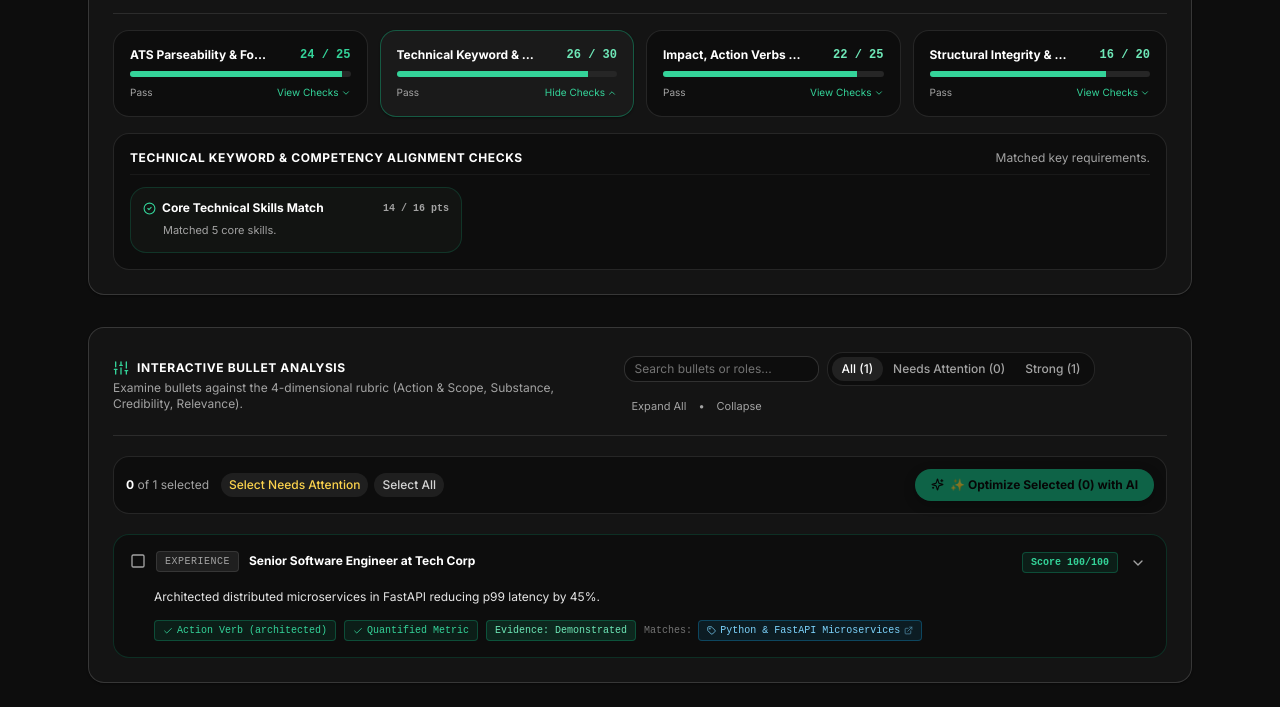
Test: ScannerPage ATS Evaluation Suite › opens ATS Studio Job Match Explorer when requirement tag is clicked from bullet analysis
(page scrolled)
Expected: the element with test id "interactive-bullet-analysis" is shown, [88,327,1192,683]
Click the button "Python & FastAPI Microservices" at coordinates (810, 631), box [698,620,922,641]
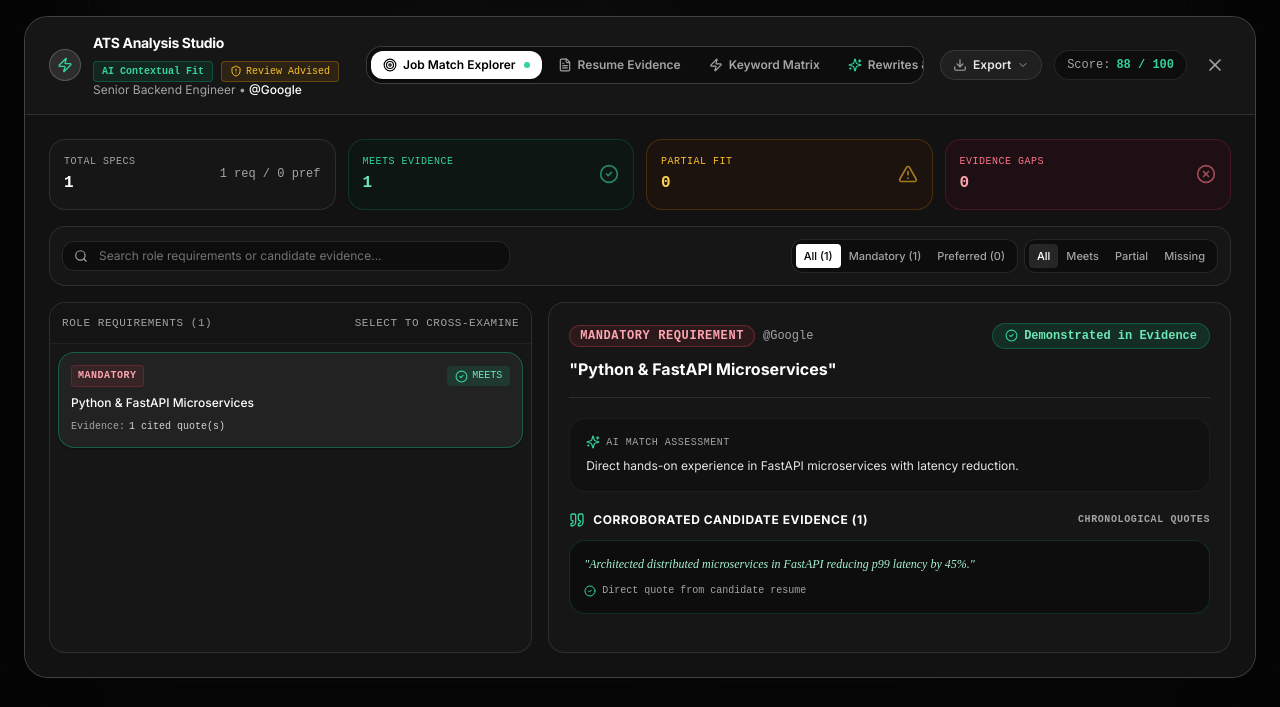
Now the dialog with test id "ats-studio-modal" is shown
Now the element with test id "job-match-explorer-view" is shown
